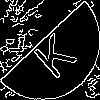K: (25, 25, 79, 81)
